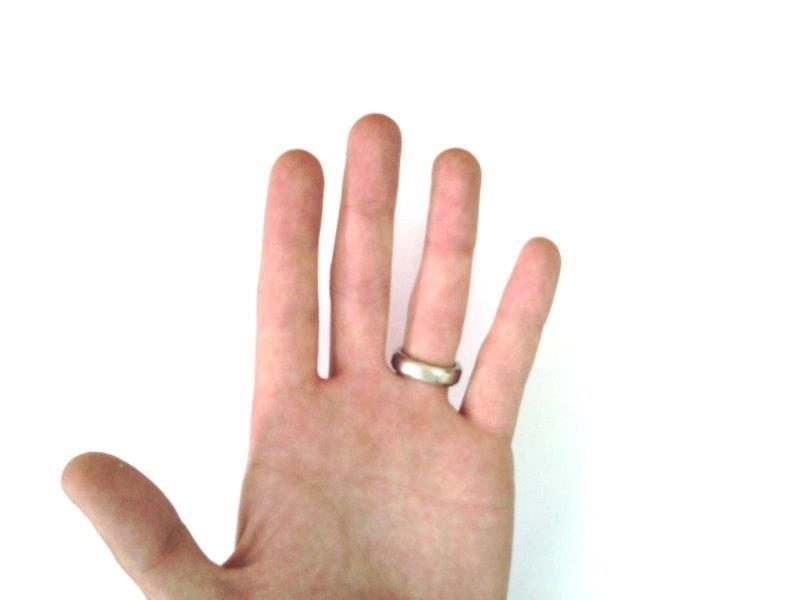hand: (61, 114, 560, 600)
